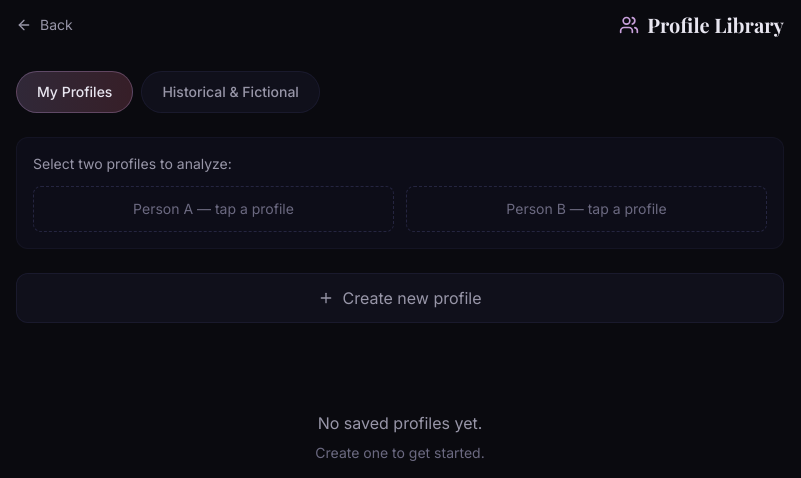
Test: ProfileLibrary › shows empty fictional state when no fictional profiles exist
This screenshot has width=801, height=478.
Click the tab "Historical & Fictional" at (231, 92), box 141,71 -> 320,113
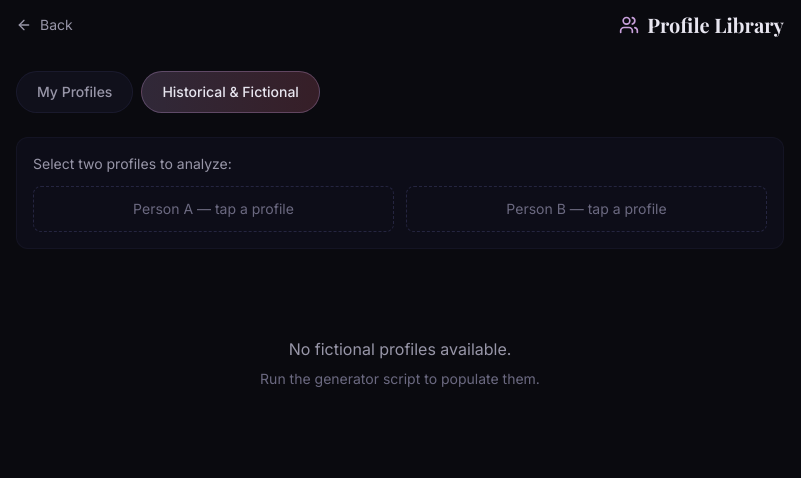
Check: the text "No fictional profiles available." is shown, box 289,339 -> 511,359
Check: the text "Run the generator script to populate them." is shown, box 260,370 -> 540,387
